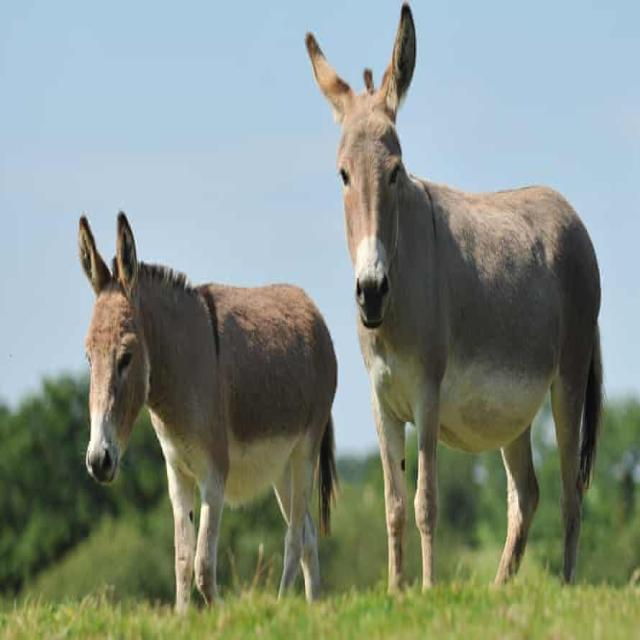Donkey: (301, 3, 613, 603), (57, 186, 346, 624)
